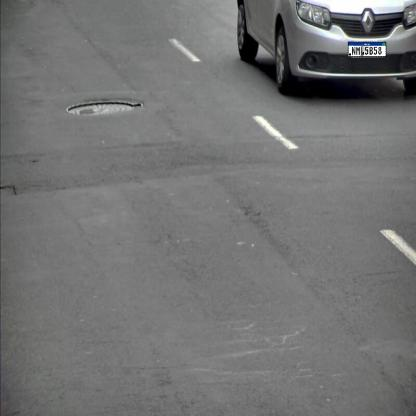PlacaM: (348, 41, 386, 57)
